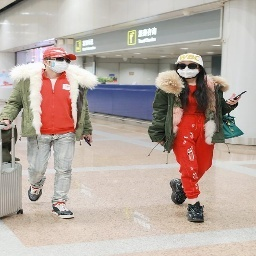correctlyWear: (43, 54, 70, 73), (175, 60, 200, 78)
